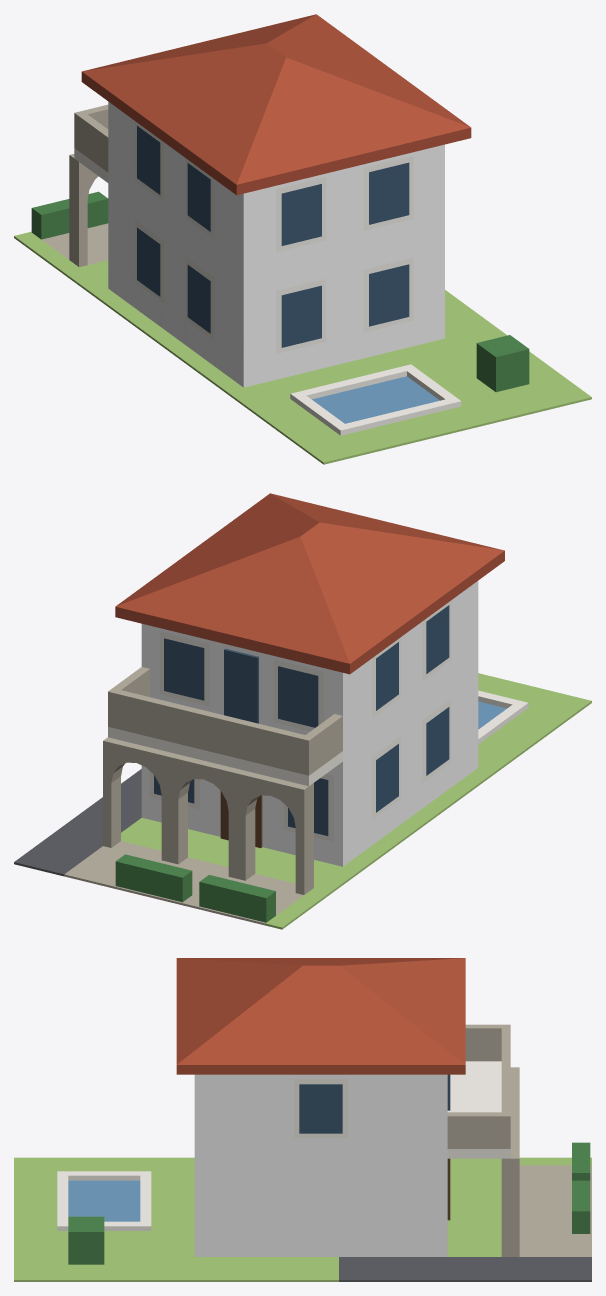
3 renders of one model, top to bottom at view 1: azimuth 30°, elevation 25°; view 2: azimuth 150°, elevation 25°; view 3: azimuth 270°, elevation 25°, orthographic. The views are drawn at different scales.
Visible parts, largest first — view 1: wall, roof, lawn (×6), window_glass (×8), window_frame (×8), pool_edge (×4), water, tree_spot, loggia, hedge, balcony_parapet, paving; view 2: roof, wall, loggia, lawn (×5), window_glass (×7), balcony_parapet (×3), window_frame (×7), hedge (×2), asphalt, paving, door (×2), balcony (+1 smaller); view 3: wall, roof, lawn (×6), asphalt, paving, balcony_parapet (×3), balcony, water, loggia, window_glass, pool_edge (×3), tree_spot (+2 smaller).
Boxes of the visible parts, bbox=[...] form: wall: bbox=[108, 102, 444, 387]; roof: bbox=[81, 14, 471, 195]; lawn (×6): bbox=[14, 232, 591, 464]; window_glass (×8): bbox=[137, 126, 409, 347]; window_frame (×8): bbox=[135, 121, 413, 353]; pool_edge (×4): bbox=[290, 364, 461, 435]; water: bbox=[312, 376, 439, 423]; tree_spot: bbox=[476, 335, 529, 392]; loggia: bbox=[69, 154, 108, 267]; hedge: bbox=[31, 191, 108, 239]; balcony_parapet: bbox=[79, 114, 108, 172]; paving: bbox=[31, 223, 108, 264]; roof: bbox=[115, 493, 504, 674]; wall: bbox=[141, 581, 478, 866]; loggia: bbox=[103, 737, 313, 894]; lawn (×5): bbox=[121, 673, 591, 929]; window_glass (×7): bbox=[164, 605, 449, 835]; balcony_parapet (×3): bbox=[108, 667, 342, 775]; window_frame (×7): bbox=[159, 600, 451, 842]; hedge (×2): bbox=[115, 854, 275, 922]; asphalt: bbox=[14, 769, 141, 876]; paving: bbox=[64, 846, 303, 925]; door (×2): bbox=[220, 648, 262, 848]; balcony: bbox=[108, 727, 342, 786]; wall: bbox=[194, 1074, 447, 1256]; roof: bbox=[176, 958, 465, 1074]; lawn (×6): bbox=[14, 1157, 591, 1281]; asphalt: bbox=[339, 1257, 591, 1281]; paving: bbox=[519, 1165, 591, 1256]; balcony_parapet (×3): bbox=[447, 1024, 510, 1148]; balcony: bbox=[447, 1061, 510, 1158]; water: bbox=[68, 1180, 140, 1221]; loggia: bbox=[501, 1067, 519, 1256]; window_glass: bbox=[299, 1084, 342, 1133]; pool_edge (×3): bbox=[57, 1171, 151, 1230]; tree_spot: bbox=[68, 1216, 104, 1264].
Size of the model in its own units: 8 by 7.56 by 16.
